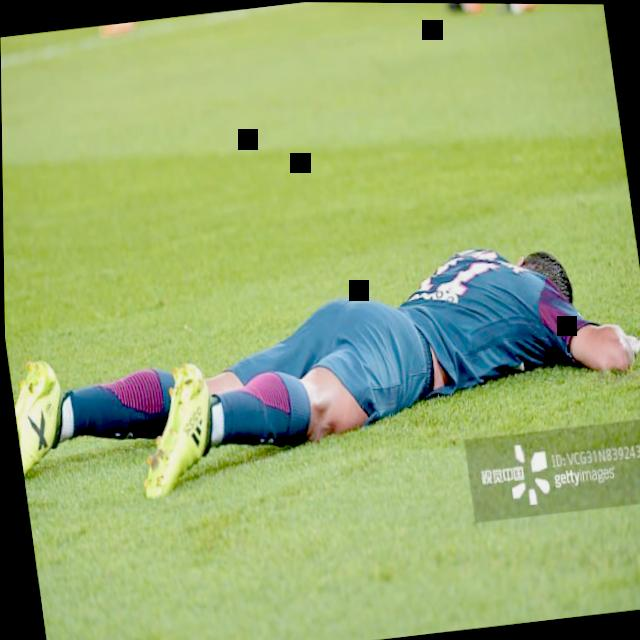Fall-Detected: (2, 184, 639, 502)
